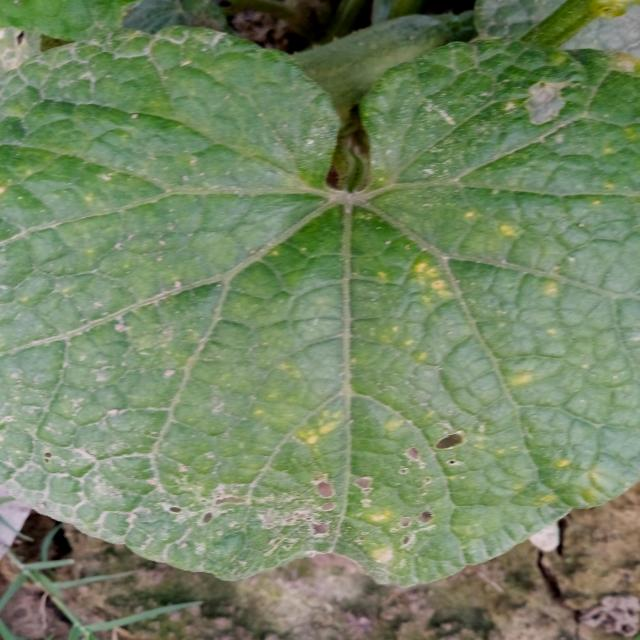cucumber_downy: (10, 69, 640, 592)
